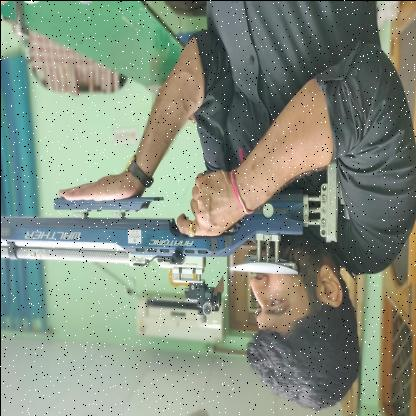rifle: (0, 154, 350, 324)
